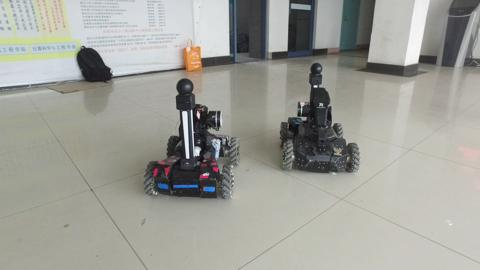chariot: (142, 76, 245, 206), (275, 62, 363, 178)
